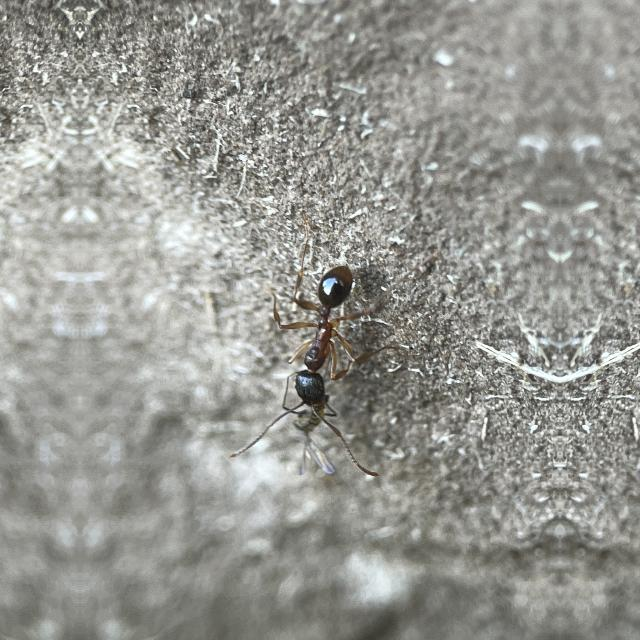Apheanogaster: (248, 240, 380, 474)
